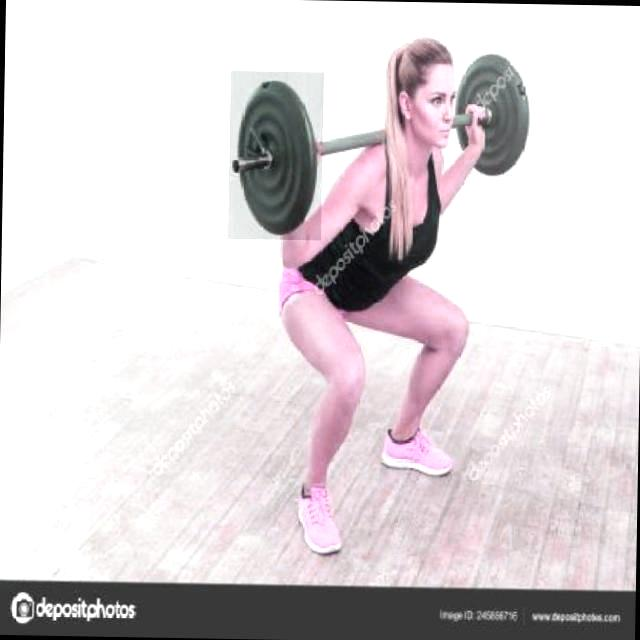barbell: (228, 70, 325, 241)
